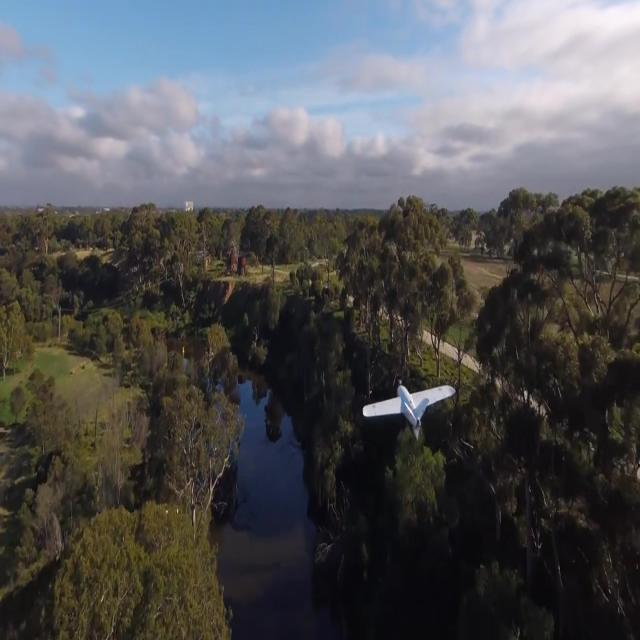iha: (394, 383, 424, 432)
